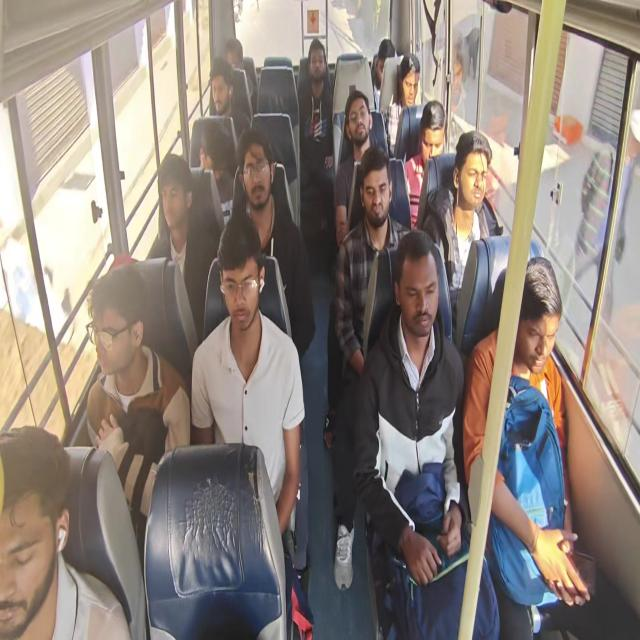person: (0, 432, 66, 640), (395, 238, 449, 342), (516, 259, 560, 384), (85, 284, 145, 371), (217, 238, 261, 328), (157, 166, 190, 244), (239, 142, 272, 218), (459, 136, 487, 208), (197, 133, 230, 186), (418, 108, 447, 168), (207, 69, 234, 118), (400, 61, 419, 108), (372, 47, 392, 90), (346, 103, 366, 143), (308, 51, 329, 88), (221, 46, 241, 73)
